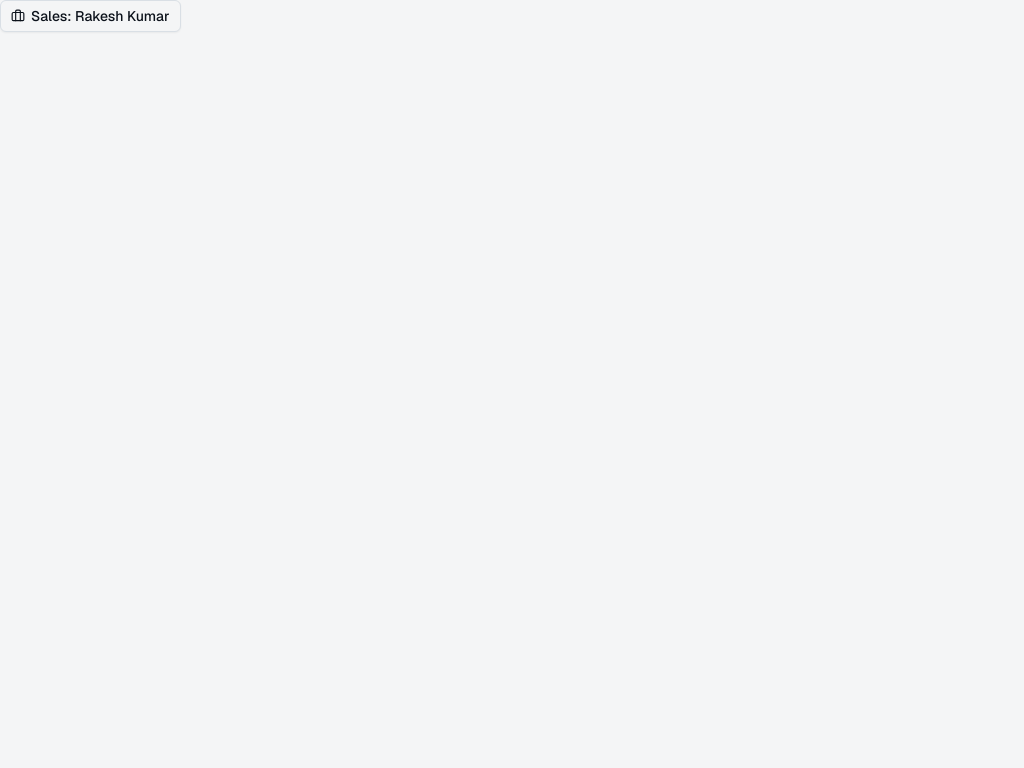
Test: <AllocateSalesButton> › opens the Re-allocate dialog when the button is clicked
The width and height of the screenshot is (1024, 768).
Click the button "Sales: Rakesh Kumar" at (90, 16), box [0,0,180,32]
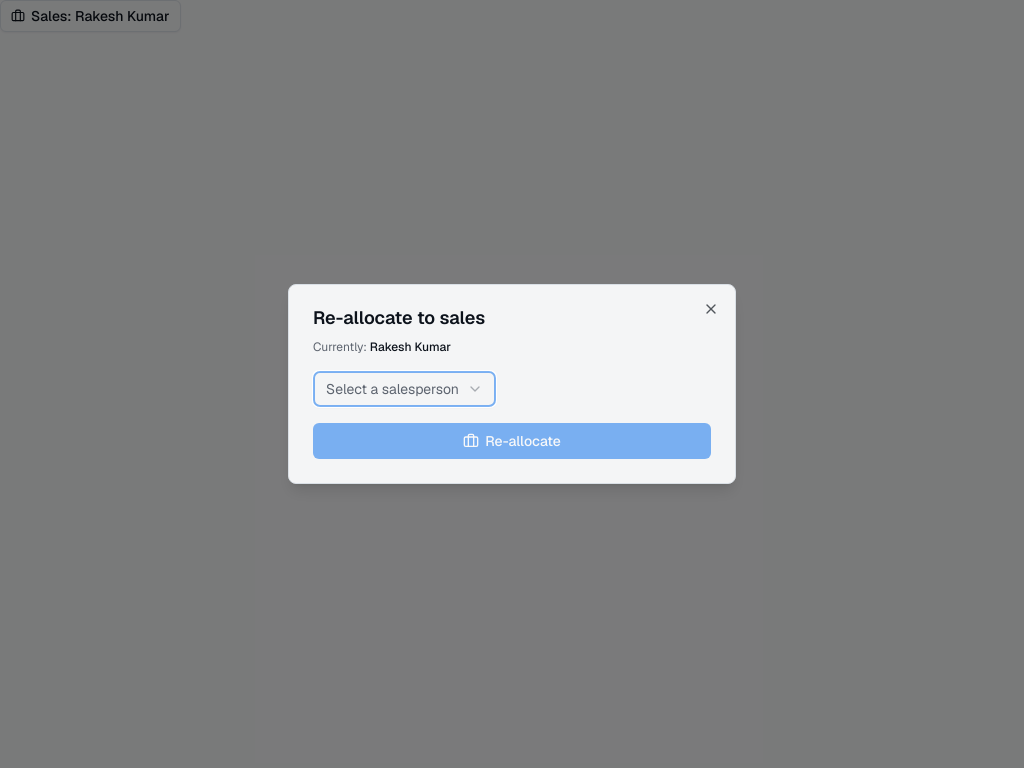
Result: the dialog is shown at [288,284,736,484]
Result: the heading "Re-allocate to sales" is shown at [313,306,485,329]
Result: the text "Currently: Rakesh Kumar" is shown at [313,339,451,355]
